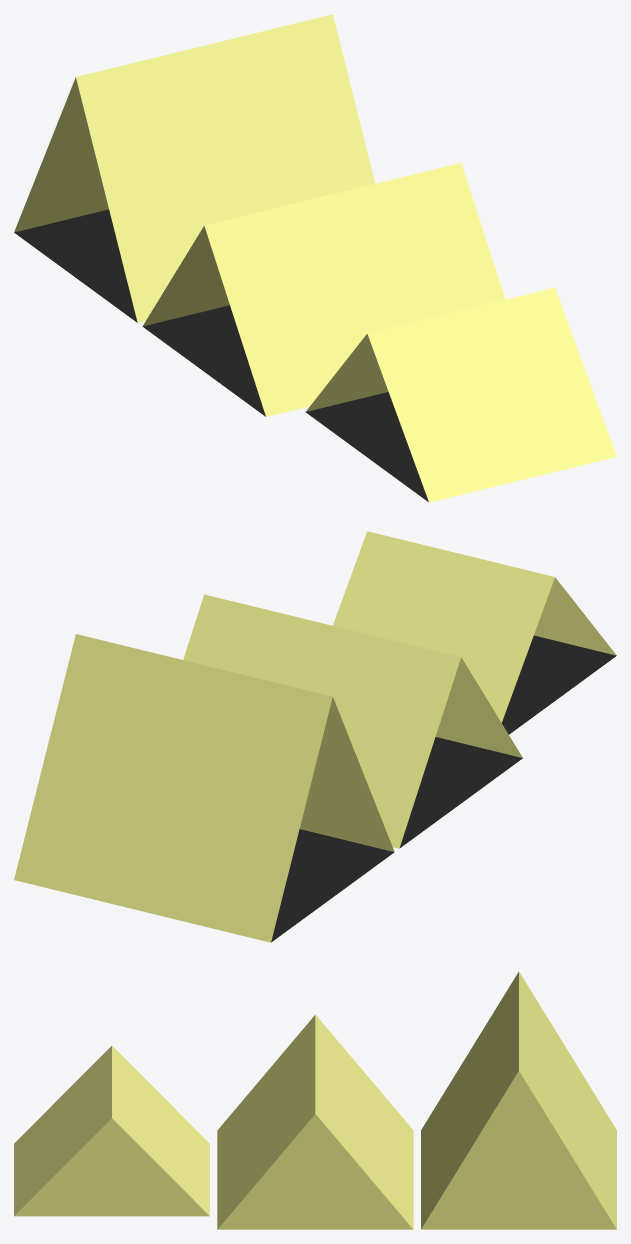
Rendered from Tents.glb.
The picture shows the model from 3 angles, top to bottom: view 1: azimuth 30°, elevation 25°; view 2: azimuth 150°, elevation 25°; view 3: azimuth 270°, elevation 25°; orthographic projection. The views are drawn at different scales.
Visible parts, largest first — view 1: Tent2, Tent1, Tent3; view 2: Tent2, Tent1, Tent3; view 3: Tent2, Tent1, Tent3.
Part boxes in pixels (x1,y1,x2,y2): Tent2: (14, 14, 375, 322); Tent1: (142, 163, 505, 416); Tent3: (305, 287, 616, 502); Tent2: (14, 634, 394, 942); Tent1: (183, 594, 522, 848); Tent3: (333, 531, 616, 734); Tent2: (421, 972, 616, 1229); Tent1: (217, 1014, 413, 1229); Tent3: (14, 1046, 209, 1216).
Size of the model in its own units: 0.955 by 0.7132 by 2.45.
